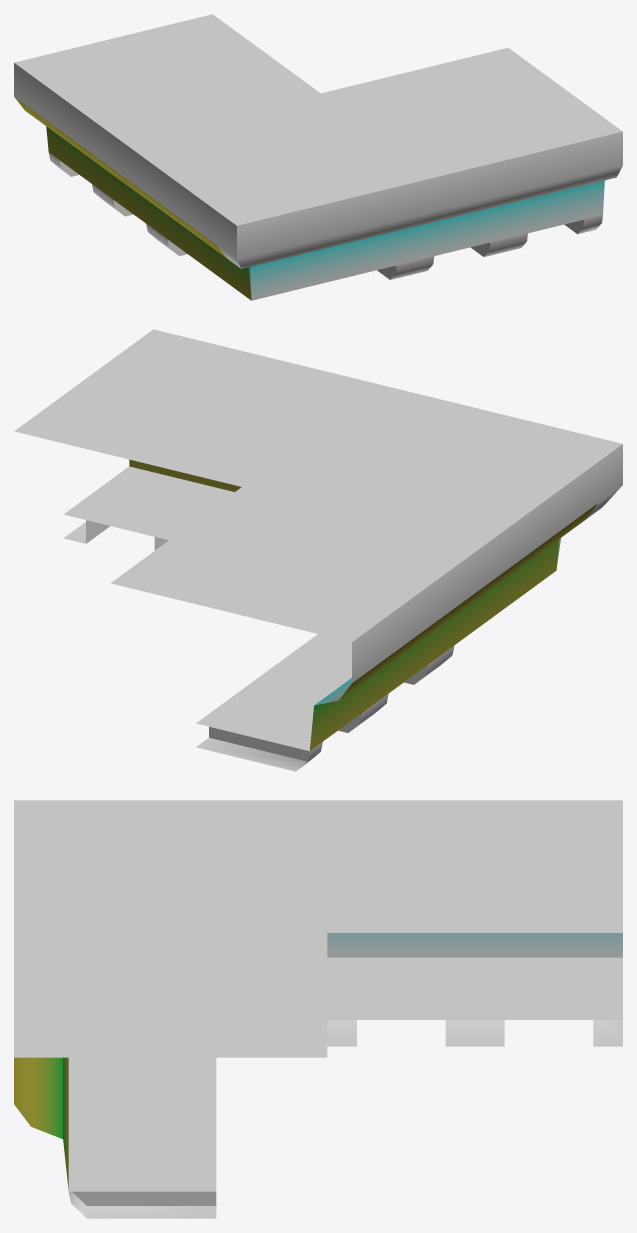
File: SM_CorniceACorner1m.fbx
3 renders of one model, top to bottom at view 1: azimuth 30°, elevation 25°; view 2: azimuth 150°, elevation 25°; view 3: azimuth 270°, elevation 25°, orthographic. The views are drawn at different scales.
Parts seen in each view (by area): view 1: SM_CorniceACorner1m; view 2: SM_CorniceACorner1m; view 3: SM_CorniceACorner1m.
Boxes of the visible parts, bbox=[...] form: SM_CorniceACorner1m: bbox=[14, 14, 622, 300]; SM_CorniceACorner1m: bbox=[14, 329, 622, 771]; SM_CorniceACorner1m: bbox=[14, 800, 622, 1218].
Size of the model in its own units: 206 by 60 by 206.
